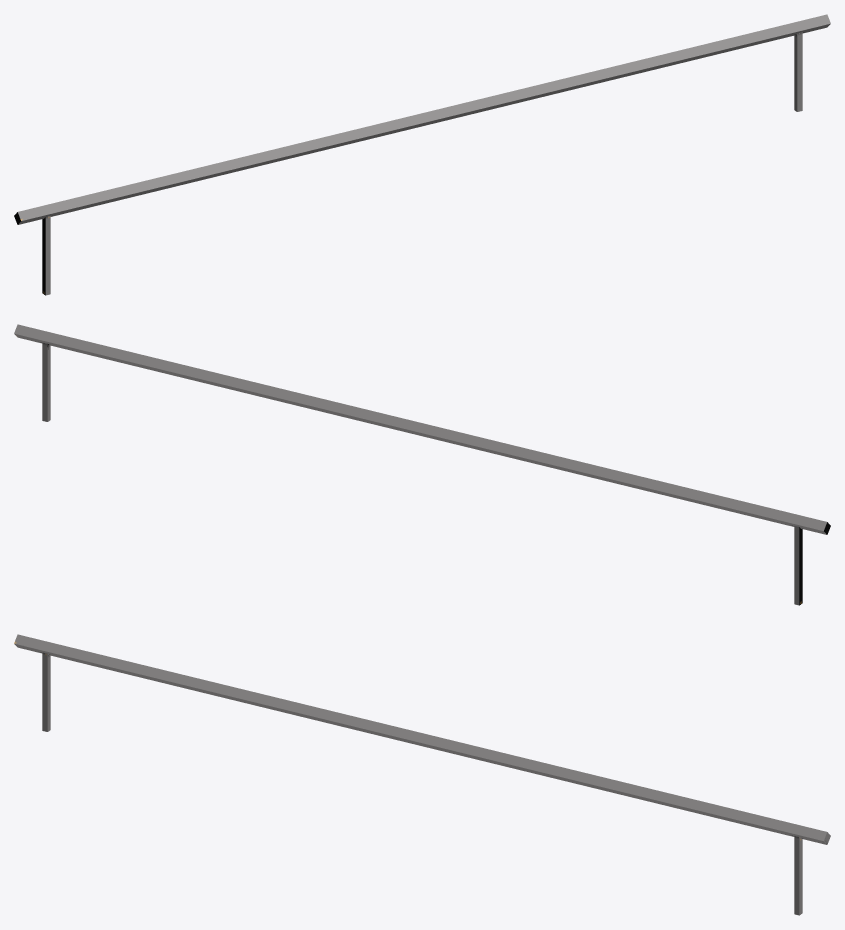
File: Test RailBlenderAddon.fbx
3 views of the same model, one above another, from view 1: azimuth 30°, elevation 25°; view 2: azimuth 150°, elevation 25°; view 3: azimuth 330°, elevation 25° (orthographic).
Visible parts, largest first — view 1: Test Rail; view 2: Test Rail; view 3: Test Rail.
Part boxes in pixels (x1,y1,x2,y2): Test Rail: (14,14,830,295); Test Rail: (14,324,830,605); Test Rail: (14,634,830,915).
Size of the model in its own units: 614 by 9.57 by 64.52.
Materials: 1 (1 with a texture image).
